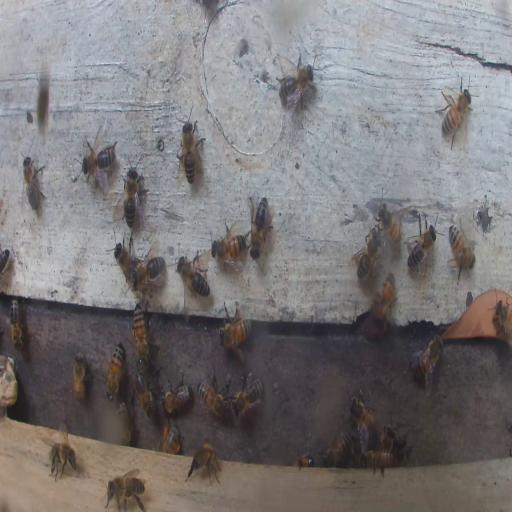bee: (78, 133, 119, 187), (277, 53, 315, 111), (438, 82, 472, 145), (176, 110, 204, 186), (409, 333, 444, 393), (404, 216, 440, 274), (447, 220, 476, 282), (105, 470, 147, 512), (176, 252, 211, 300), (350, 228, 383, 278), (247, 194, 273, 256), (187, 440, 221, 486), (123, 160, 145, 229), (21, 149, 45, 211), (374, 195, 402, 248), (232, 372, 262, 419), (212, 226, 250, 263), (371, 273, 396, 326), (198, 375, 228, 419), (49, 435, 77, 482), (218, 315, 252, 351), (132, 253, 164, 290), (162, 376, 191, 416), (350, 395, 374, 442), (321, 431, 352, 467), (134, 366, 156, 416), (132, 303, 148, 366), (105, 344, 123, 398), (113, 240, 136, 282), (364, 448, 398, 475), (9, 298, 23, 350), (73, 350, 87, 402), (162, 425, 180, 455), (118, 403, 131, 443), (352, 426, 366, 461), (393, 436, 411, 463), (382, 427, 396, 452), (0, 248, 11, 278), (296, 454, 316, 468)
